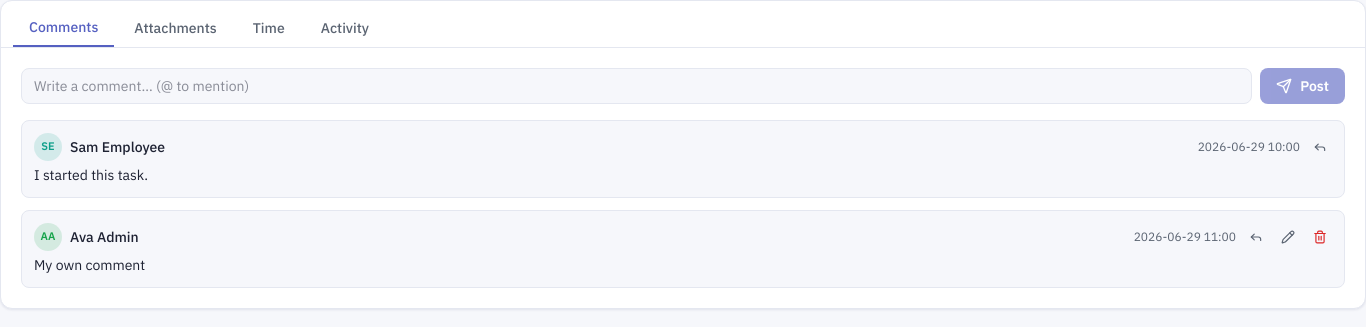
it: task collaboration tabs › renders the activity trail with translated status change
This screenshot has width=1366, height=327.
Click the tab "Activity" at (345, 28), box [305,9,385,47]
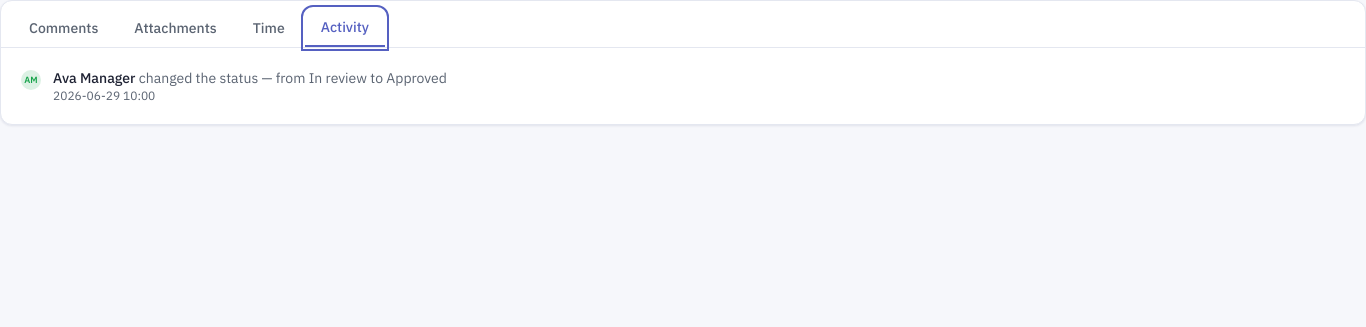
Now the text "Ava Manager" is shown, box [53,69,135,87]
Now the text "changed the status" is shown, box [139,69,258,87]
Now the text "— from In review to Approved" is shown, box [258,69,447,87]
